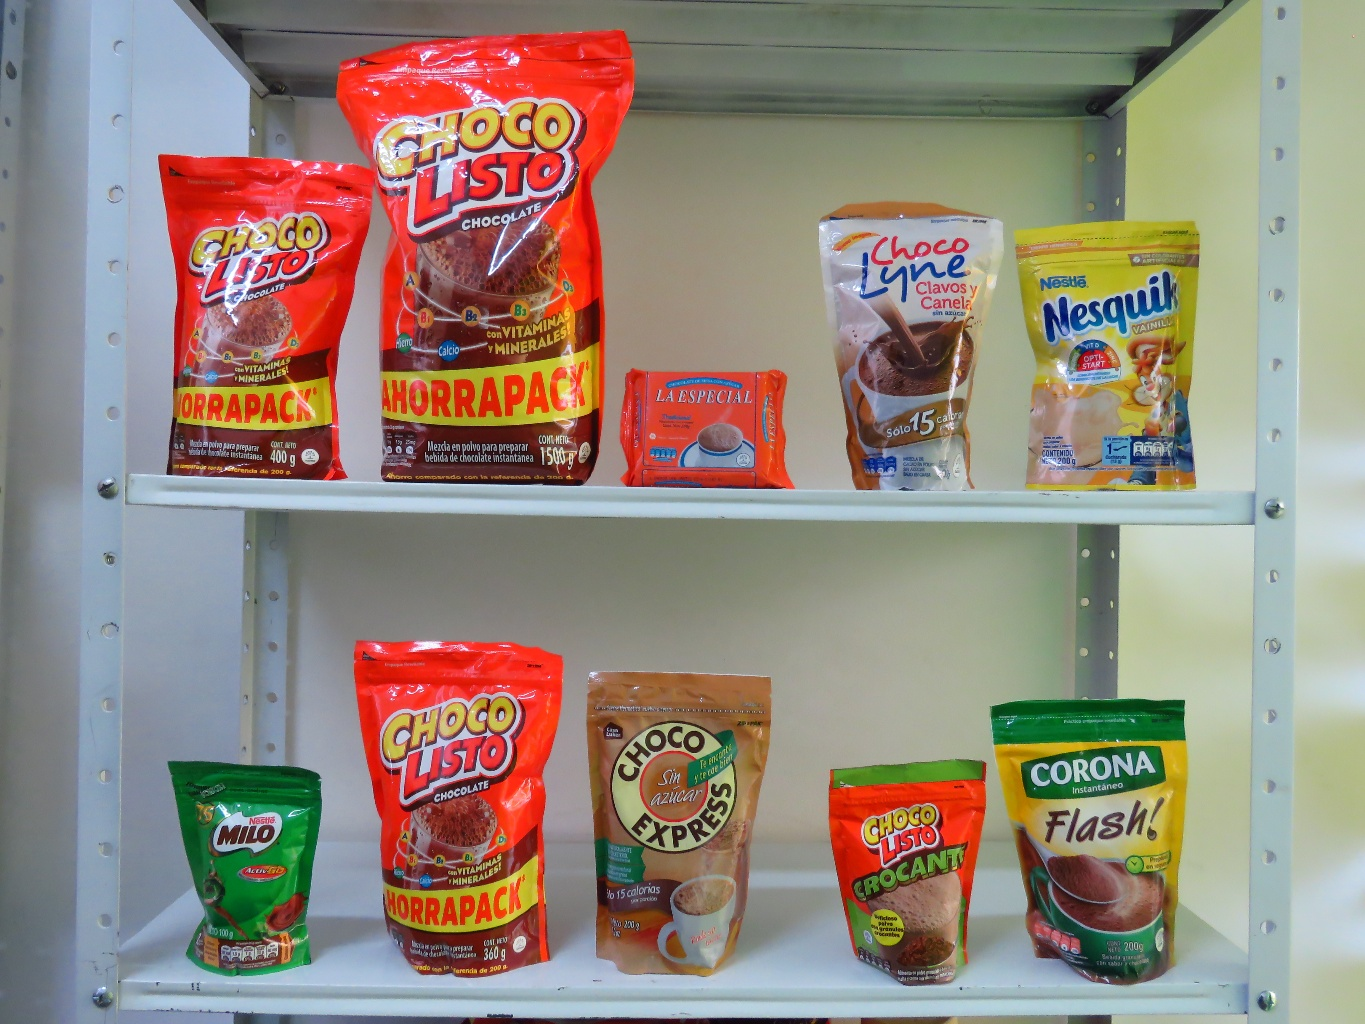COL0170102DYP10000: (795, 731, 1029, 1002)
COL0170103DYP1,500: (314, 14, 646, 497)
COL0170103DYP36000: (333, 618, 582, 990)
COL0170103DYP40000: (136, 137, 392, 495)
COL0170203DYP10000: (131, 734, 346, 1004)
COL0170306DYP20000: (1004, 196, 1221, 498)
